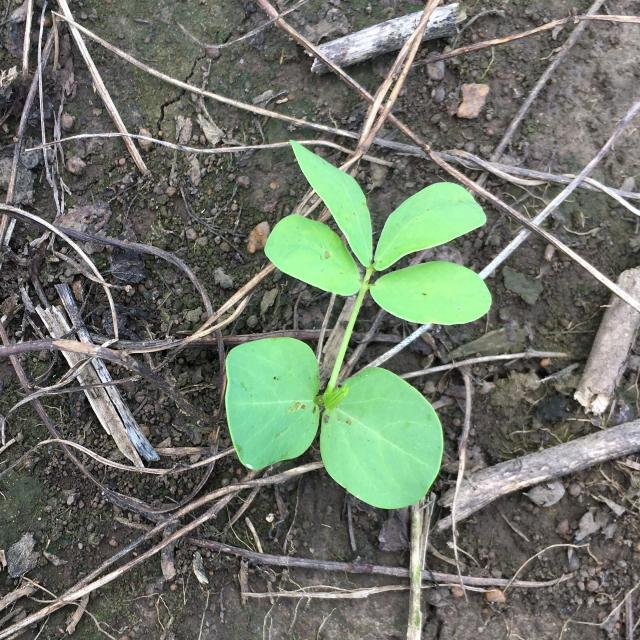Sicklepod: (225, 140, 493, 510)
